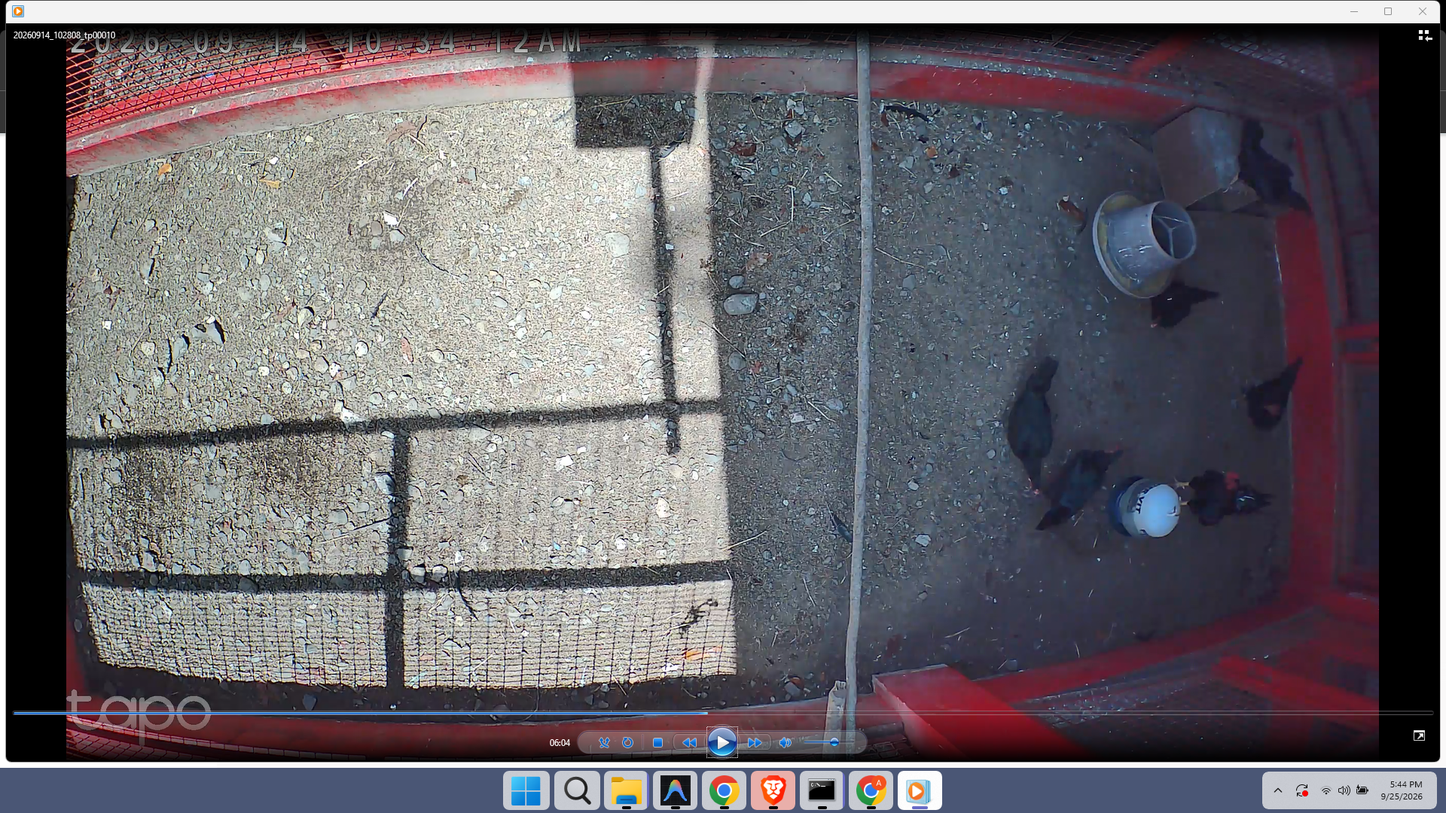Chicken: (1224, 118, 1316, 226), (1000, 356, 1064, 500), (1033, 445, 1126, 532), (1238, 352, 1308, 433), (1144, 276, 1222, 332)
Drinker: (1107, 478, 1178, 539)
Feeder: (1091, 187, 1202, 302)
Rooster: (1175, 471, 1274, 530)
